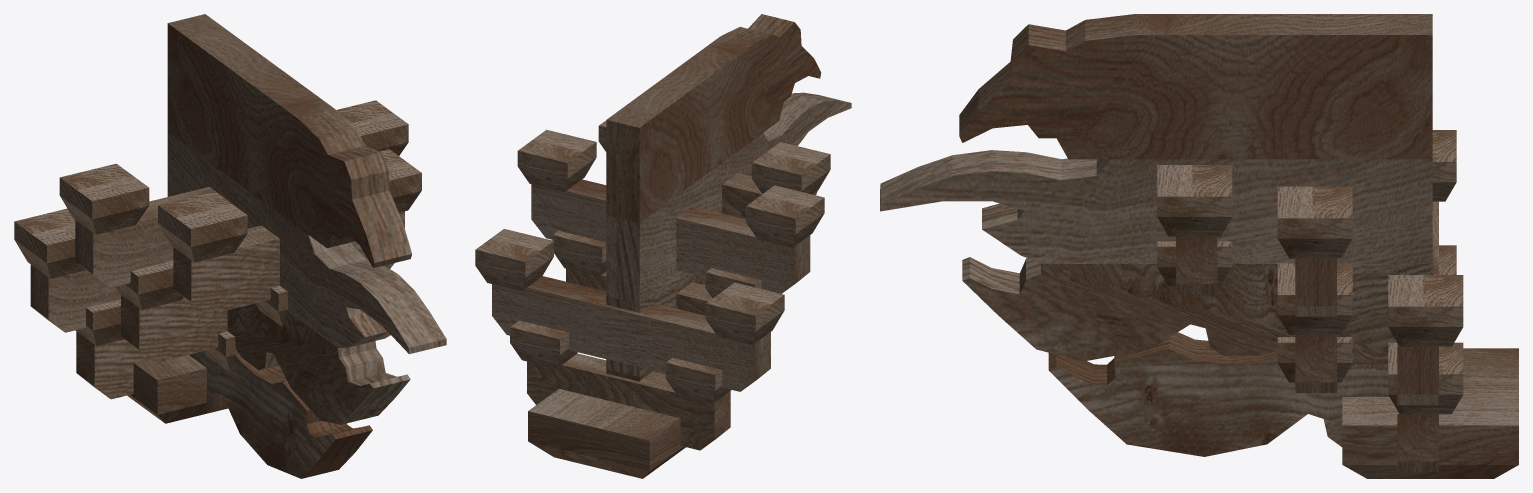
File: SM_Sun_Kak_Gonpo_A.fbx
3 views of the same model, side by side, from view 1: azimuth 30°, elevation 25°; view 2: azimuth 150°, elevation 25°; view 3: azimuth 270°, elevation 25° (orthographic). The views are drawn at different scales.
Visible parts, largest first — view 1: SM_Sun_Kak_Gonpo_A; view 2: SM_Sun_Kak_Gonpo_A; view 3: SM_Sun_Kak_Gonpo_A.
Boxes of the visible parts, x1,y1,x2,y2 form: SM_Sun_Kak_Gonpo_A: [14, 14, 446, 478]; SM_Sun_Kak_Gonpo_A: [475, 14, 851, 478]; SM_Sun_Kak_Gonpo_A: [880, 14, 1518, 478].
Bounding box in the file's own units: 89.52 × 101 × 137.
